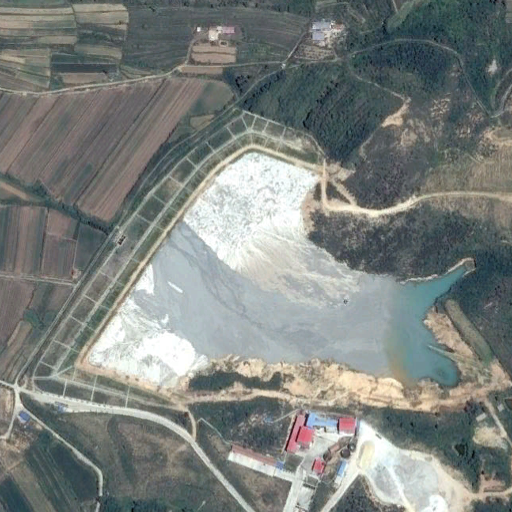tp: (23, 104, 475, 411)
